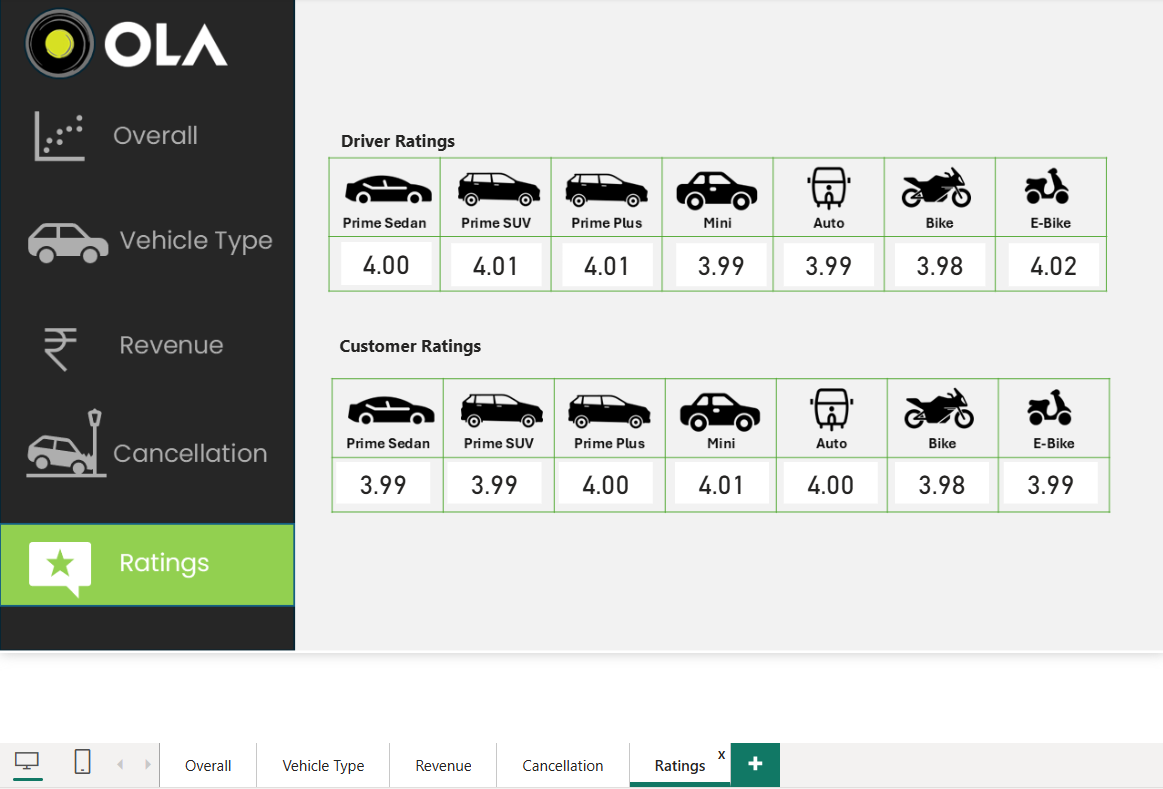

Layout of this report page (visuals, bound fields, positions):
{"tool":"powerbi","page":{"name":"Ratings","canvas":[1280,720],"ordinal":4},"visuals":[{"type":"actionButton","box":[0,224.4,324.5,90.5],"z":0},{"type":"actionButton","box":[0,345,324.5,85.7],"z":1000},{"type":"actionButton","box":[0,442.8,324.5,114.6],"z":2000},{"type":"actionButton","box":[1.2,577.9,324.5,101.3],"z":3000},{"type":"actionButton","box":[0,108.6,324.5,102.5],"z":4000},{"type":"card","fields":{"Values":["Avg(July.Driver_Ratings)"]},"box":[374.1,269.1,98.8,47.1],"z":5000},{"type":"card","fields":{"Values":["Avg(July.Driver_Ratings)"]},"box":[495.7,270.7,98.8,47.1],"z":6000},{"type":"card","fields":{"Values":["Avg(July.Driver_Ratings)"]},"box":[982.3,270.7,98.8,47.1],"z":7000},{"type":"card","fields":{"Values":["Avg(July.Driver_Ratings)"]},"box":[860.6,270.7,98.8,47.1],"z":8000},{"type":"card","fields":{"Values":["Avg(July.Driver_Ratings)"]},"box":[742,270.7,98.8,47.1],"z":9000},{"type":"card","fields":{"Values":["Avg(July.Driver_Ratings)"]},"box":[617.3,270.7,98.8,47.1],"z":10000},{"type":"card","fields":{"Values":["Avg(July.Driver_Ratings)"]},"box":[1107,270.7,98.8,47.1],"z":11000},{"type":"card","fields":{"Values":["Avg(July.Customer_Rating)"]},"box":[369.5,510.9,103.4,45.6],"z":12000},{"type":"card","fields":{"Values":["Avg(July.Customer_Rating)"]},"box":[740.5,510.9,103.4,45.6],"z":13000},{"type":"card","fields":{"Values":["Avg(July.Customer_Rating)"]},"box":[612.8,510.9,103.4,45.6],"z":14000},{"type":"card","fields":{"Values":["Avg(July.Customer_Rating)"]},"box":[1102.4,510.9,103.4,45.6],"z":15000},{"type":"card","fields":{"Values":["Avg(July.Customer_Rating)"]},"box":[491.1,510.9,103.4,45.6],"z":16000},{"type":"card","fields":{"Values":["Avg(July.Customer_Rating)"]},"box":[860.6,510.9,103.4,45.6],"z":17000},{"type":"card","fields":{"Values":["Avg(July.Customer_Rating)"]},"box":[982.3,510.9,103.4,45.6],"z":18000},{"type":"textbox","box":[369.5,139.9,138.4,41.1],"z":19000},{"type":"textbox","box":[368,364.9,174.9,45.6],"z":20000}]}

Visuals, with their boxes on the page's 1280x720 design canvas (x1, y1, x2, y2). These are canvas units, not pixel positions in the 1163x789 screenshot, which may show the page scaled, cropped or inside an application window:
actionButton: pyautogui.locateOnScreen(0, 224, 324, 315)
actionButton: pyautogui.locateOnScreen(0, 345, 324, 431)
actionButton: pyautogui.locateOnScreen(0, 443, 324, 557)
actionButton: pyautogui.locateOnScreen(1, 578, 326, 679)
actionButton: pyautogui.locateOnScreen(0, 109, 324, 211)
card - Avg(July.Driver_Ratings): pyautogui.locateOnScreen(374, 269, 473, 316)
card - Avg(July.Driver_Ratings): pyautogui.locateOnScreen(496, 271, 594, 318)
card - Avg(July.Driver_Ratings): pyautogui.locateOnScreen(982, 271, 1081, 318)
card - Avg(July.Driver_Ratings): pyautogui.locateOnScreen(861, 271, 959, 318)
card - Avg(July.Driver_Ratings): pyautogui.locateOnScreen(742, 271, 841, 318)
card - Avg(July.Driver_Ratings): pyautogui.locateOnScreen(617, 271, 716, 318)
card - Avg(July.Driver_Ratings): pyautogui.locateOnScreen(1107, 271, 1206, 318)
card - Avg(July.Customer_Rating): pyautogui.locateOnScreen(370, 511, 473, 556)
card - Avg(July.Customer_Rating): pyautogui.locateOnScreen(740, 511, 844, 556)
card - Avg(July.Customer_Rating): pyautogui.locateOnScreen(613, 511, 716, 556)
card - Avg(July.Customer_Rating): pyautogui.locateOnScreen(1102, 511, 1206, 556)
card - Avg(July.Customer_Rating): pyautogui.locateOnScreen(491, 511, 594, 556)
card - Avg(July.Customer_Rating): pyautogui.locateOnScreen(861, 511, 964, 556)
card - Avg(July.Customer_Rating): pyautogui.locateOnScreen(982, 511, 1086, 556)
textbox: pyautogui.locateOnScreen(370, 140, 508, 181)
textbox: pyautogui.locateOnScreen(368, 365, 543, 410)
